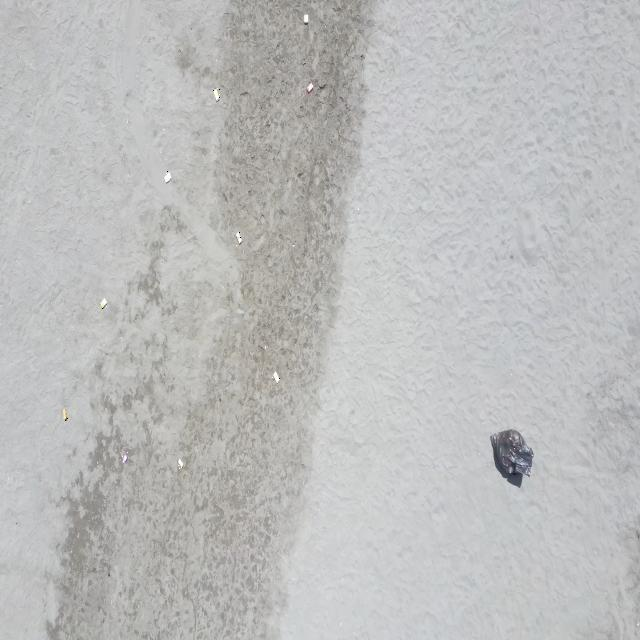Garbage: (489, 430, 532, 475), (120, 449, 128, 463), (163, 171, 171, 183), (212, 88, 220, 100), (62, 407, 68, 420), (176, 457, 183, 468), (272, 371, 279, 382), (100, 299, 107, 308), (307, 81, 312, 92), (236, 232, 240, 243), (303, 13, 307, 24)
